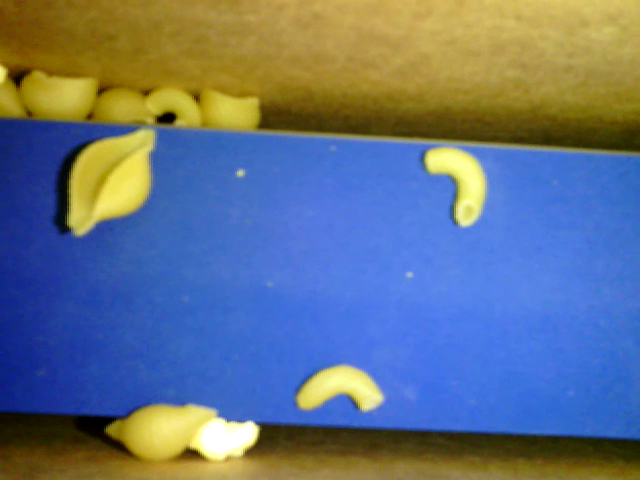elbow: (422, 146, 485, 227), (297, 362, 384, 412), (145, 85, 205, 128)
shell: (64, 125, 153, 237), (107, 402, 216, 461), (18, 70, 98, 123), (196, 87, 261, 133), (89, 86, 157, 125)
